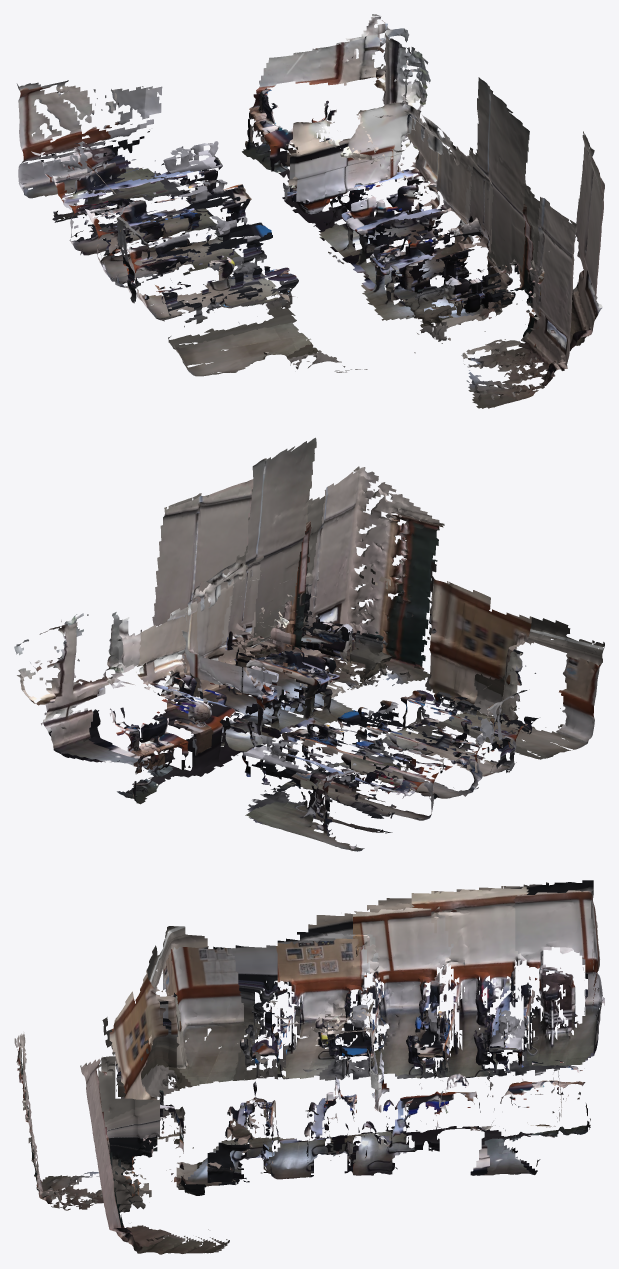
Rendered from model_gate_d_textured.glb.
3 views of the same model, one above another, from view 1: azimuth 30°, elevation 25°; view 2: azimuth 150°, elevation 25°; view 3: azimuth 270°, elevation 25° (orthographic). The views are drawn at different scales.
Parts seen in each view (by area): view 1: model_gate_d_textured_canonical.obj; view 2: model_gate_d_textured_canonical.obj; view 3: model_gate_d_textured_canonical.obj.
Part boxes in pixels (left/top/right/bottom): model_gate_d_textured_canonical.obj: left=17, top=14, right=604, bottom=408; model_gate_d_textured_canonical.obj: left=14, top=437, right=604, bottom=851; model_gate_d_textured_canonical.obj: left=14, top=880, right=604, bottom=1254.
Size of the model in its own units: 2.66 by 1.55 by 3.17.
1 material, 1 textured.
